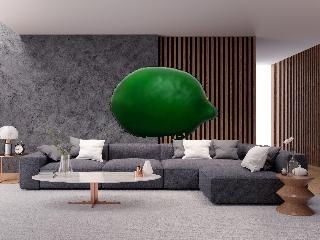lime: (106, 62, 223, 141)
